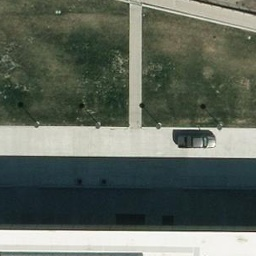car: (175, 130, 216, 150)
